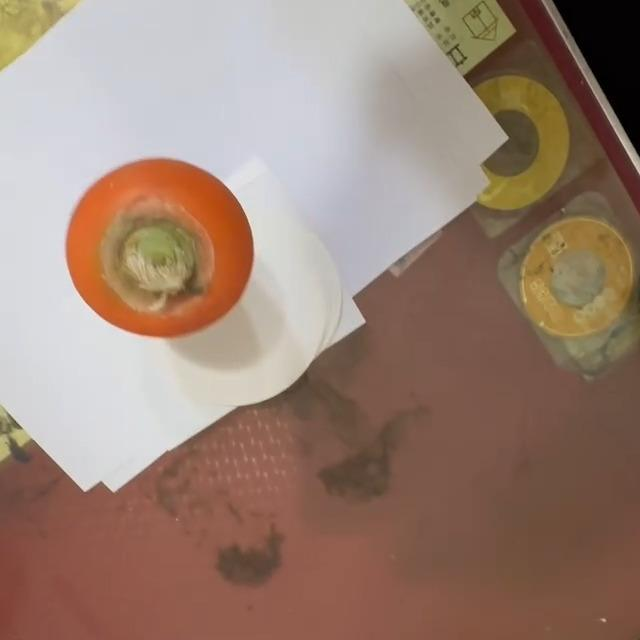carrot: (64, 158, 255, 343)
